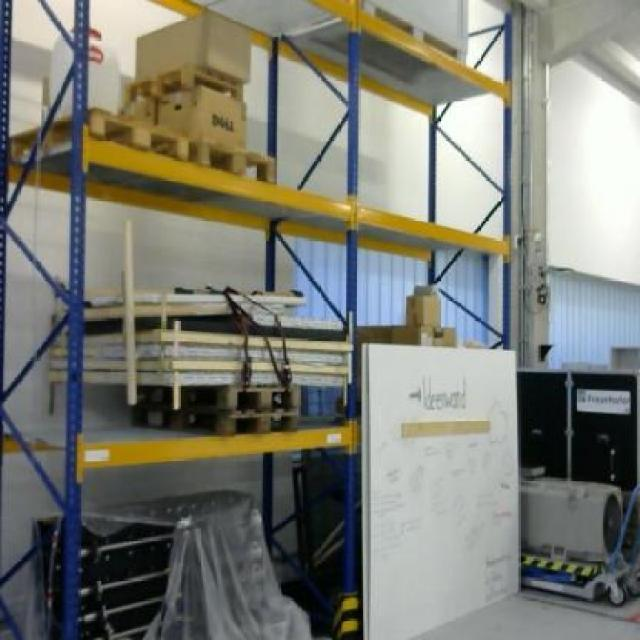box: (133, 9, 253, 85), (154, 86, 248, 148), (404, 292, 441, 326)
